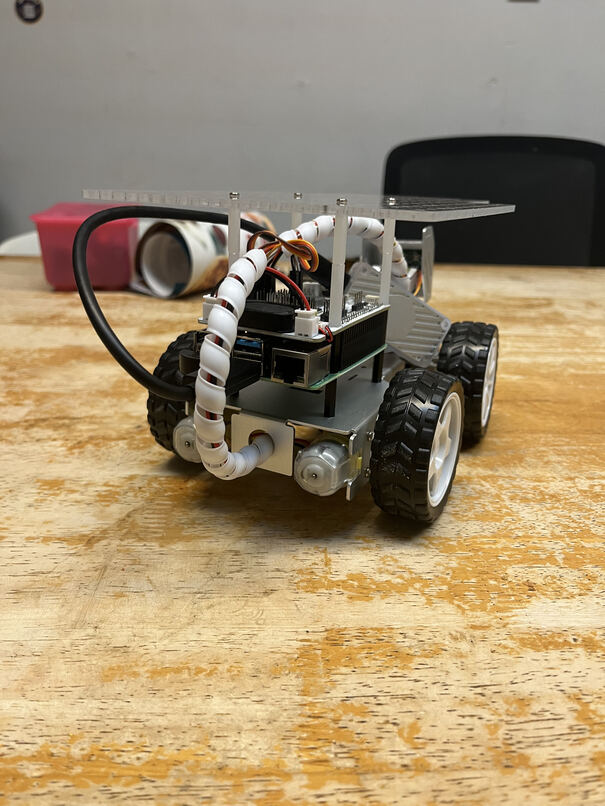vehicle: (74, 184, 526, 525)
